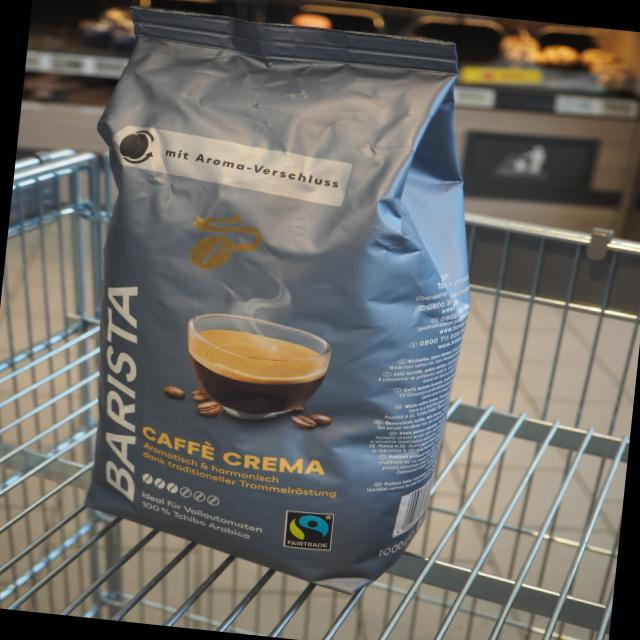Barista CC: (41, 0, 524, 617)
